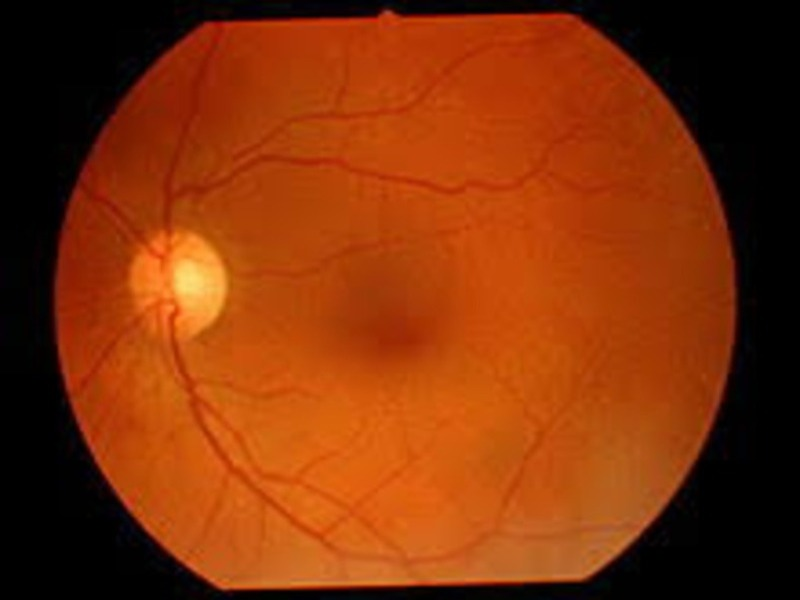Optic Cup: (173, 257, 206, 297)
Optic Disc: (128, 227, 229, 340)
